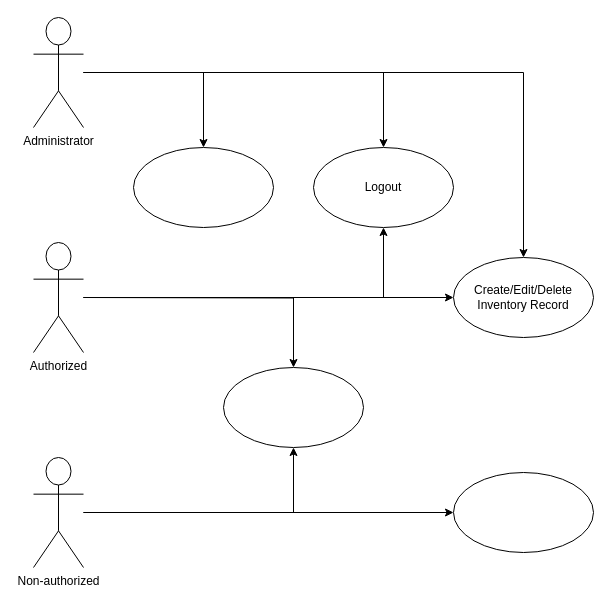
Image size: 611x606. Some labels were removed from this diagram. Each missing label, with the centre of its shape:
Login/Register: (x=523, y=512)
View/Delete Users: (x=203, y=187)
View/Filter Inventory: (x=293, y=407)
